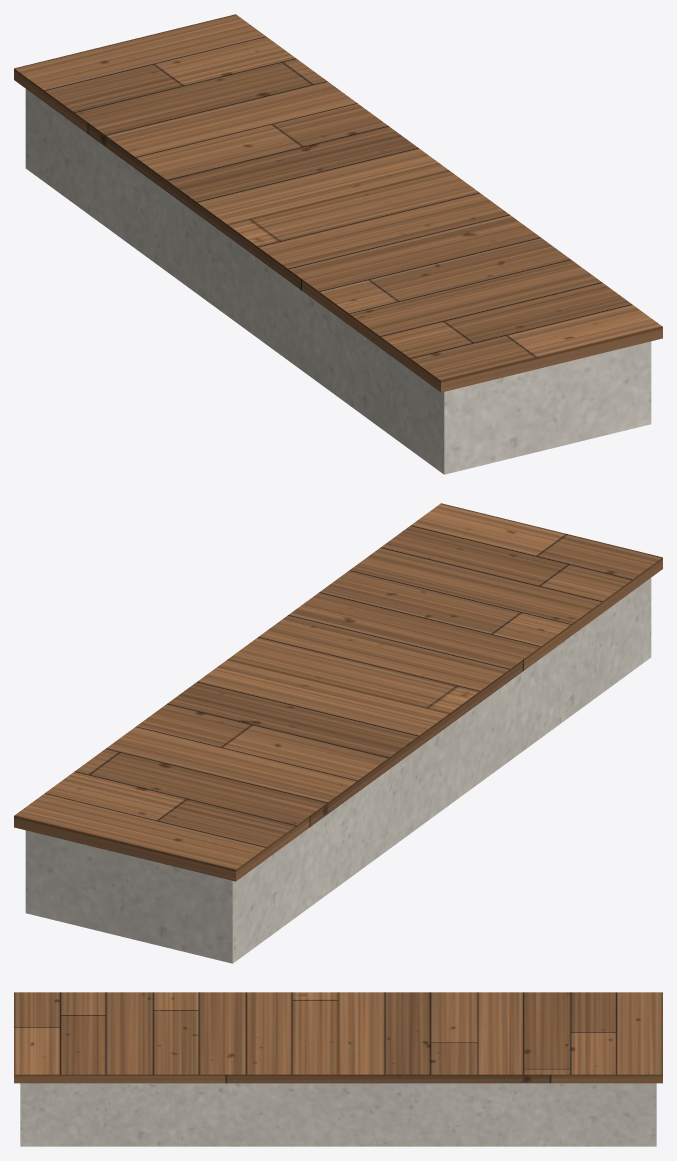
File: floor_floor_u_e1000.glb
The picture shows the model from 3 angles, top to bottom: view 1: azimuth 30°, elevation 25°; view 2: azimuth 150°, elevation 25°; view 3: azimuth 270°, elevation 25°; orthographic projection. The views are drawn at different scales.
Visible parts, largest first — view 1: floor_floor_u_e1000_floor, floor_floor_u_e1000_plaster; view 2: floor_floor_u_e1000_floor, floor_floor_u_e1000_plaster; view 3: floor_floor_u_e1000_floor, floor_floor_u_e1000_plaster.
Part boxes in pixels (x1,y1,x2,y2): floor_floor_u_e1000_floor: [14, 14, 662, 392]; floor_floor_u_e1000_plaster: [25, 89, 651, 474]; floor_floor_u_e1000_floor: [14, 503, 662, 881]; floor_floor_u_e1000_plaster: [25, 578, 651, 963]; floor_floor_u_e1000_floor: [14, 992, 662, 1083]; floor_floor_u_e1000_plaster: [20, 1083, 656, 1146].
Size of the model in its own units: 0.6 by 0.255 by 2.
2 materials, 2 textured.
